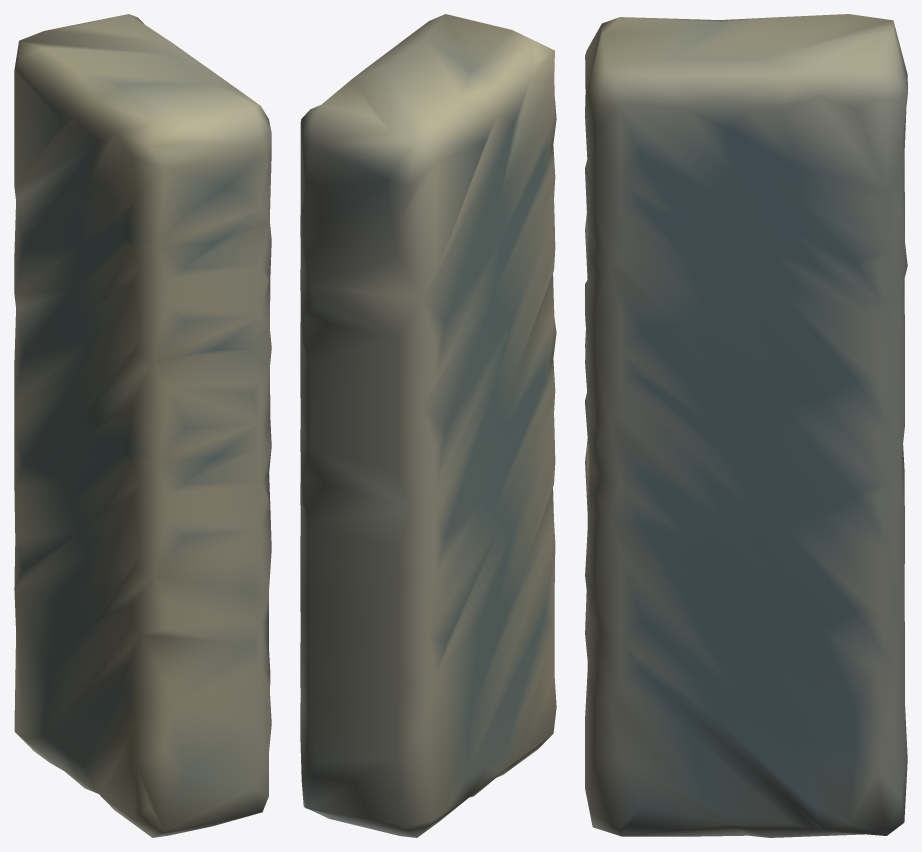
File: hero_rifle_maglong.glb
3 renders of one model, left to right at view 1: azimuth 30°, elevation 25°; view 2: azimuth 150°, elevation 25°; view 3: azimuth 270°, elevation 25°, orthographic. The views are drawn at different scales.
Parts seen in each view (by area): view 1: geometry_0; view 2: geometry_0; view 3: geometry_0.
Boxes of the visible parts, <box> form: geometry_0: <box>14,14,271,837</box>; geometry_0: <box>300,14,556,837</box>; geometry_0: <box>585,14,907,837</box>.
Size of the model in its own units: 0.036 by 0.18 by 0.068.
